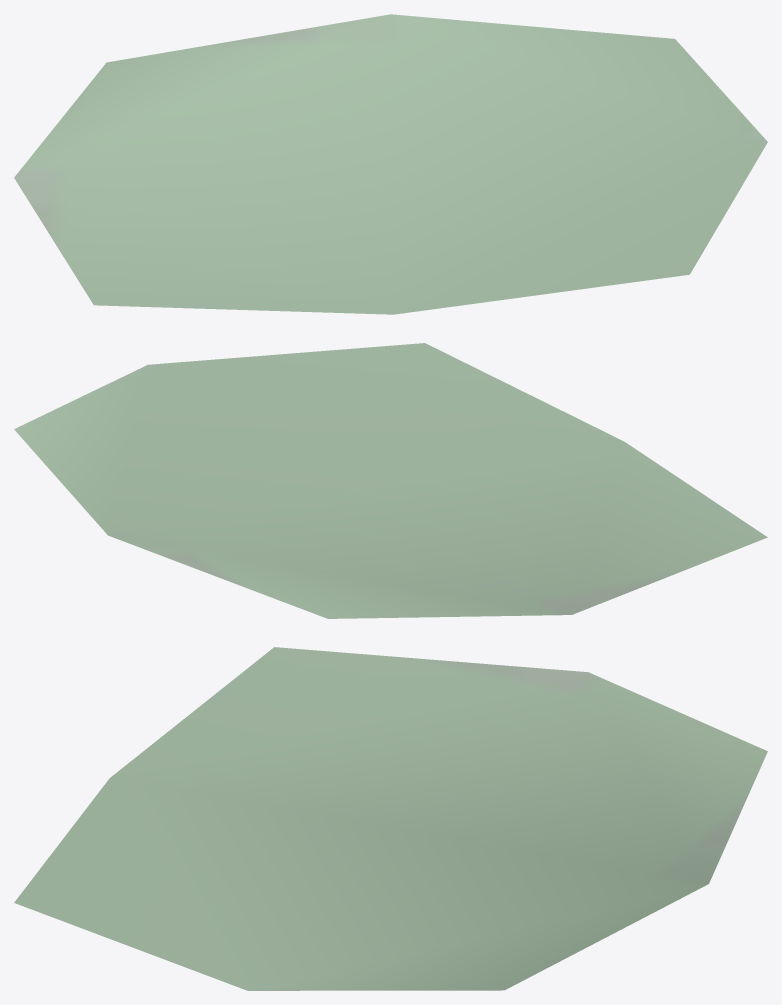
The model's file is TROLLHOLE02_HOLECAP127.fbx.
The picture shows the model from 3 angles, top to bottom: view 1: azimuth 30°, elevation 25°; view 2: azimuth 150°, elevation 25°; view 3: azimuth 270°, elevation 25°; orthographic projection. The views are drawn at different scales.
Visible parts, largest first — view 1: TROLLHOLE02_HOLECAP127; view 2: TROLLHOLE02_HOLECAP127; view 3: TROLLHOLE02_HOLECAP127.
Part boxes in pixels (x1=…): TROLLHOLE02_HOLECAP127: x1=14, y1=14, x2=767, y2=314; TROLLHOLE02_HOLECAP127: x1=14, y1=343, x2=767, y2=618; TROLLHOLE02_HOLECAP127: x1=14, y1=647, x2=767, y2=990.
Size of the model in its own units: 31640 by 1558 by 27375.
Materials: 1 (1 with a texture image).
